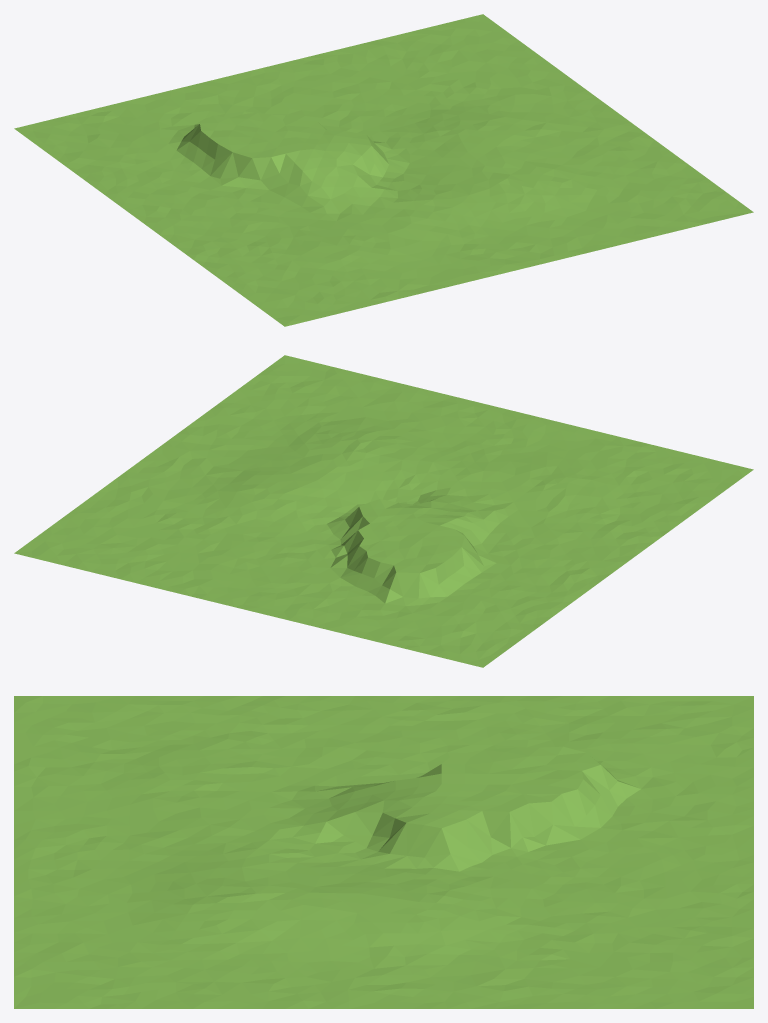
The model's file is MT_Terrain_L_d_11_LOD.fbx.
The picture shows the model from 3 angles, top to bottom: view 1: azimuth 30°, elevation 25°; view 2: azimuth 150°, elevation 25°; view 3: azimuth 270°, elevation 25°; orthographic projection. The views are drawn at different scales.
Parts seen in each view (by area): view 1: MT_Terrain_L_d_11_LOD0; view 2: MT_Terrain_L_d_11_LOD0; view 3: MT_Terrain_L_d_11_LOD0.
Boxes of the visible parts, box(x1,y1,x2,y2) form: MT_Terrain_L_d_11_LOD0: box(14, 14, 753, 326); MT_Terrain_L_d_11_LOD0: box(14, 355, 753, 667); MT_Terrain_L_d_11_LOD0: box(14, 696, 753, 1008).
Size of what is drawn, in the model's own units: 10000 by 421 by 10000.
